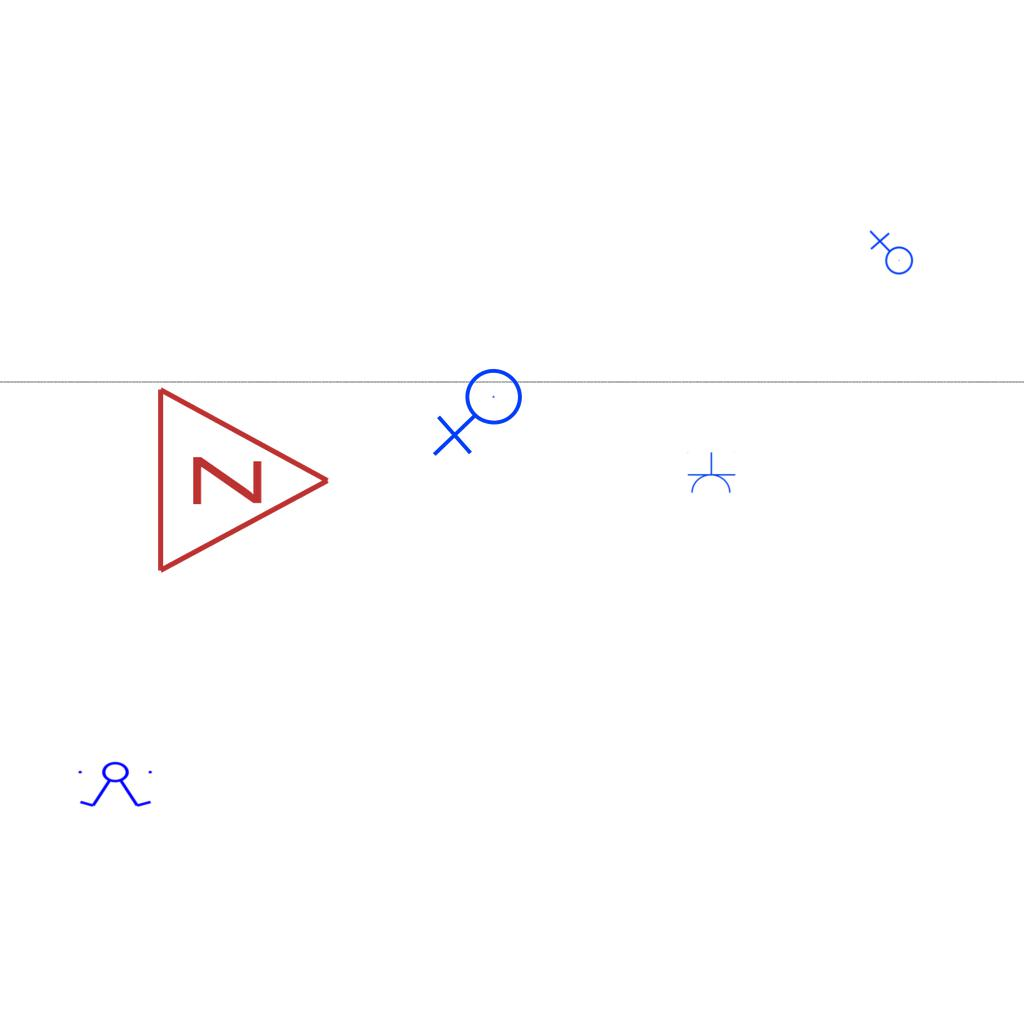Elektroanschluss_allgemein_230V_Geraeteanschlussdose_230V: (432, 367, 531, 461), (867, 230, 914, 279)
Schukosteckdose_einfach: (686, 452, 736, 495)
Serienschalter: (74, 761, 158, 809)
Zimmersignalleuchte: (143, 380, 343, 576)
